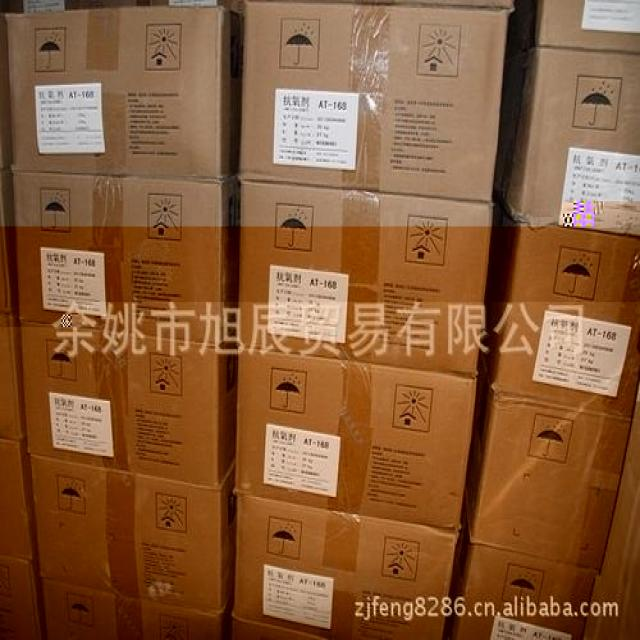box: (239, 0, 515, 201), (237, 181, 494, 379), (236, 348, 479, 528), (5, 2, 243, 179), (13, 168, 239, 344), (19, 319, 237, 487), (466, 352, 632, 571), (481, 203, 639, 420), (233, 492, 460, 640), (27, 451, 236, 610), (492, 42, 640, 237), (443, 487, 602, 640), (582, 373, 640, 640), (41, 580, 234, 638), (511, 0, 640, 53), (0, 437, 38, 560), (0, 554, 46, 638), (0, 313, 24, 439), (0, 168, 18, 316), (230, 616, 329, 640)
